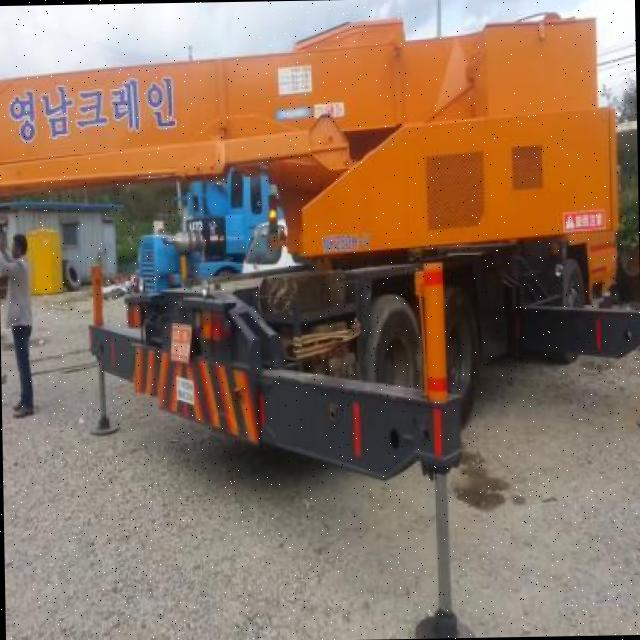Mobile Crane: (0, 10, 623, 486)
